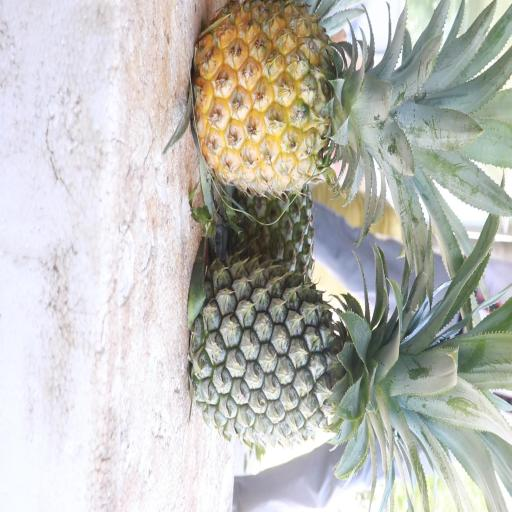Pineapple - v8 v1: (189, 0, 436, 205)
